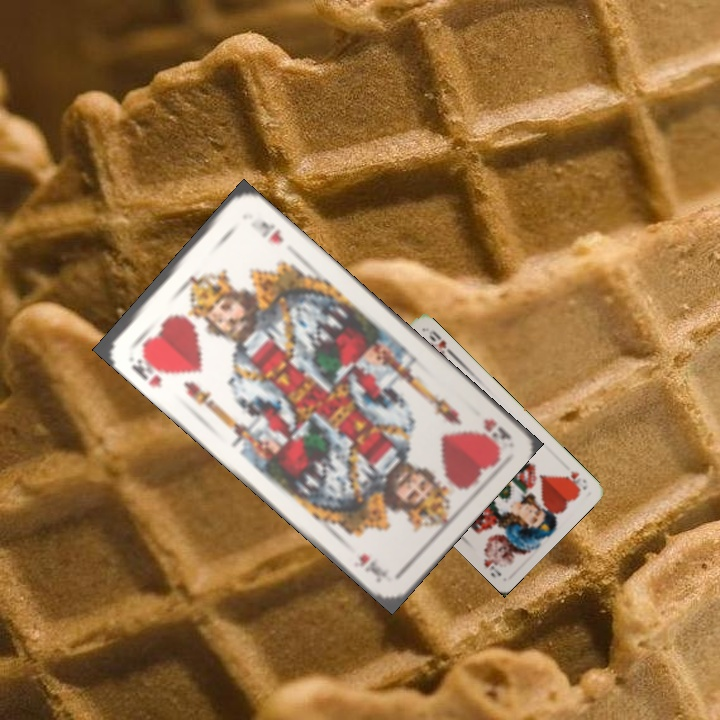HK: (127, 347, 171, 391), (479, 414, 514, 451)
HO: (559, 467, 589, 494)
